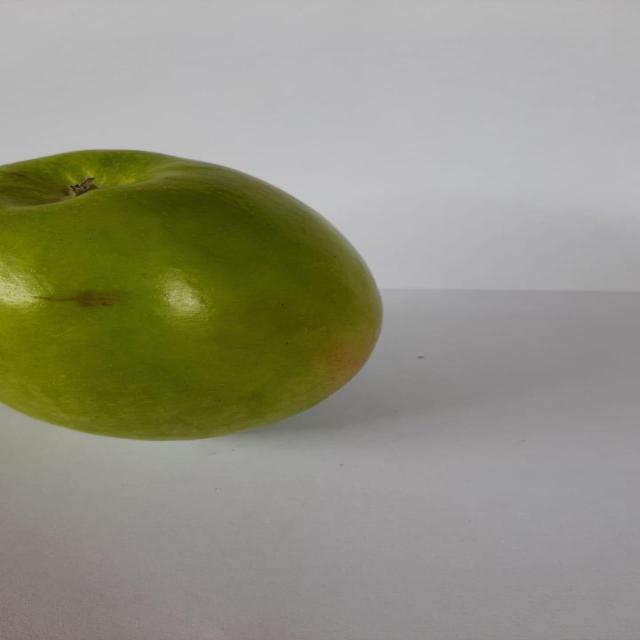Rotten Apple: (6, 136, 393, 462)
